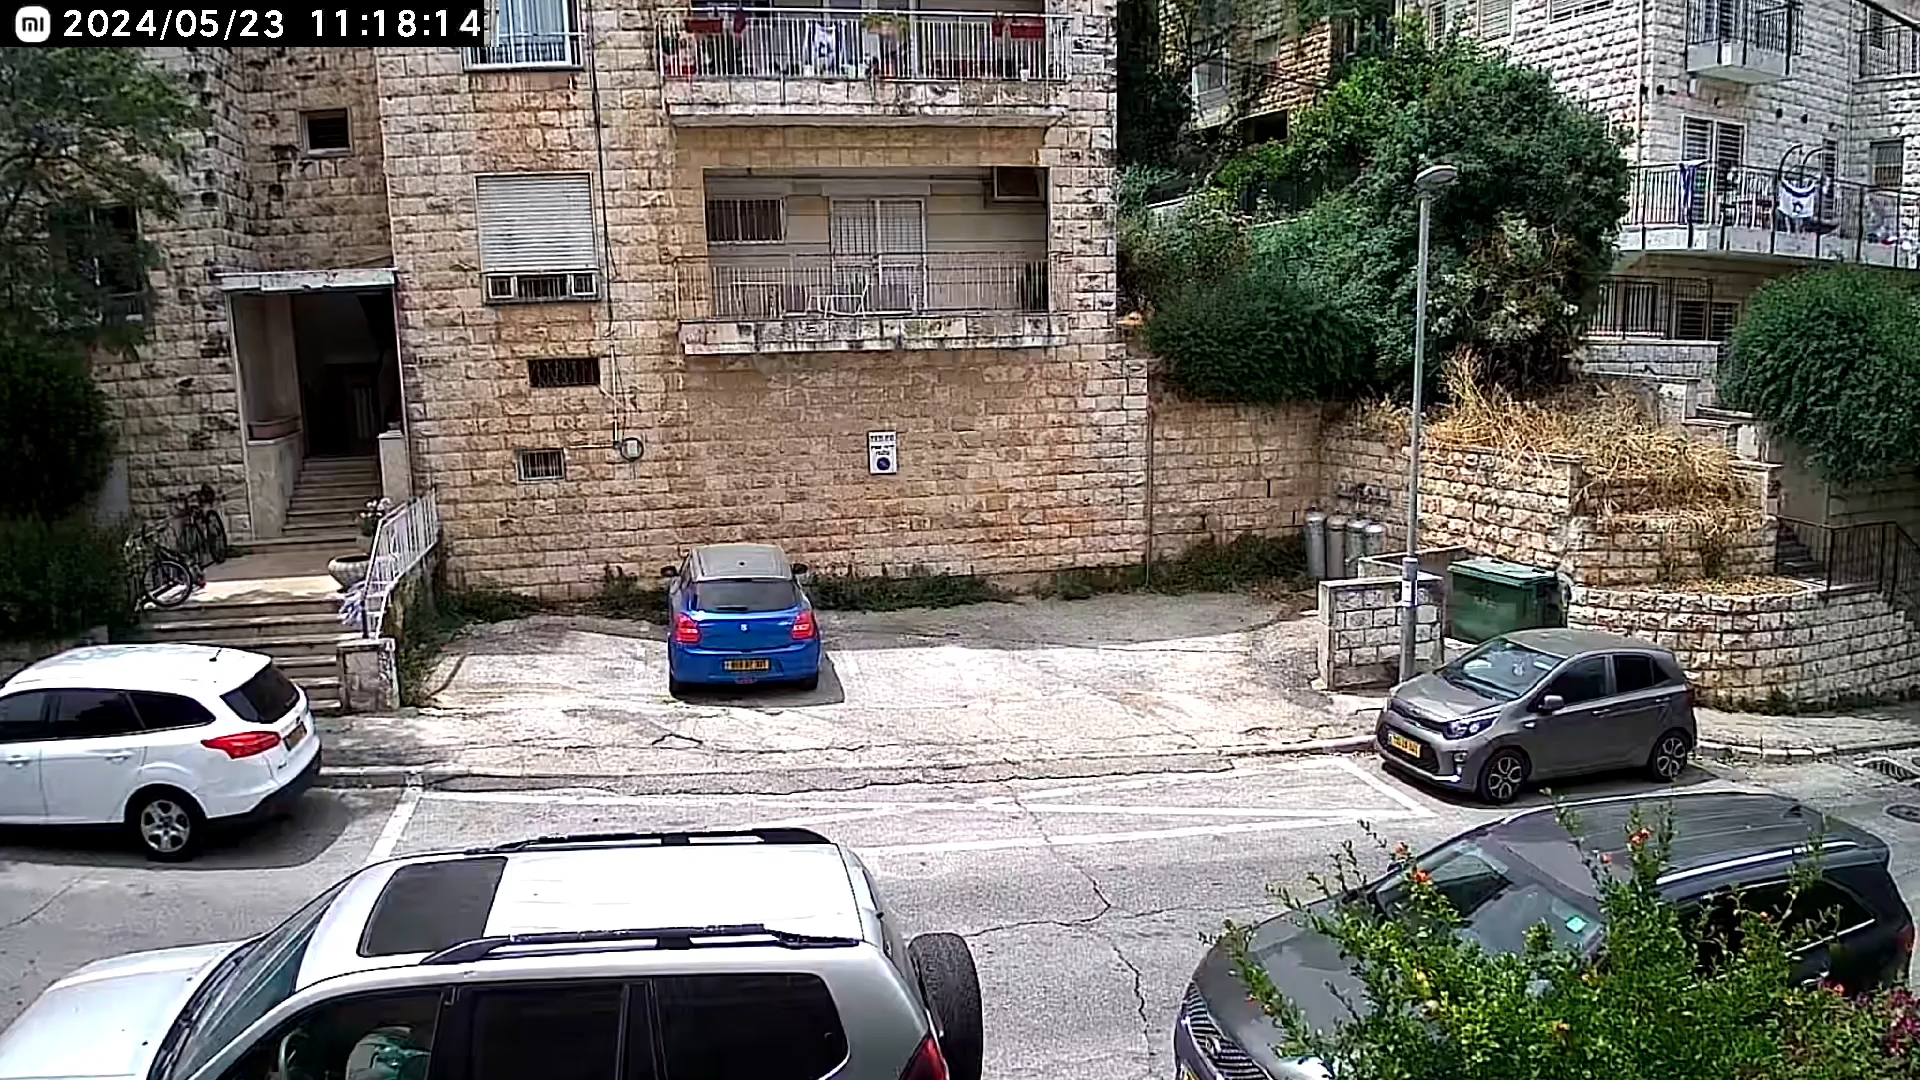empty: (171, 551, 761, 986), (131, 231, 972, 401)
